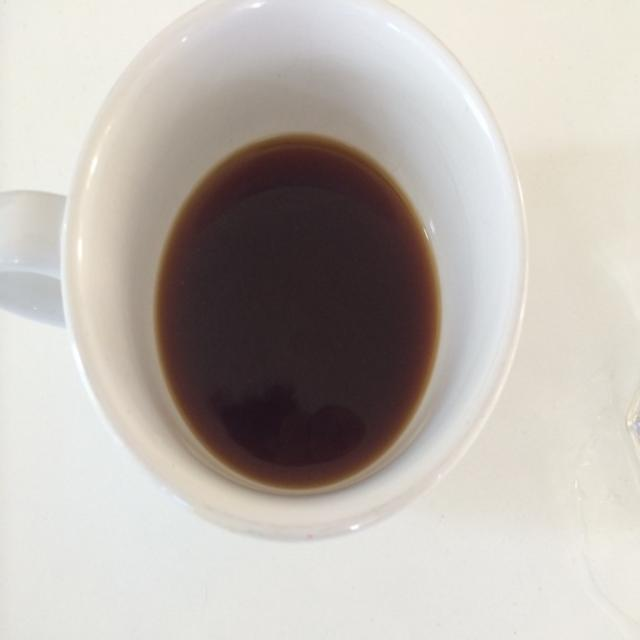Tea: (153, 129, 444, 496)
